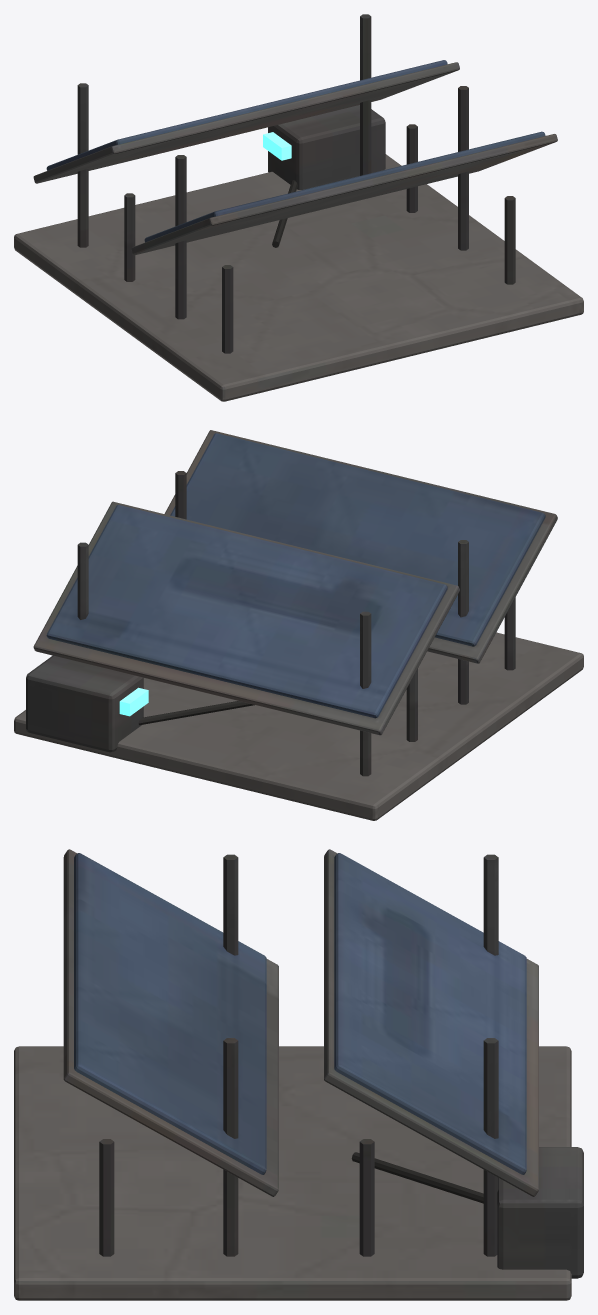
Rendered from home-solar.glb.
3 renders of one model, top to bottom at view 1: azimuth 30°, elevation 25°; view 2: azimuth 150°, elevation 25°; view 3: azimuth 270°, elevation 25°, orthographic. The views are drawn at different scales.
Visible parts, largest first — view 1: wh_solar, wh_solar_lights; view 2: wh_solar, wh_solar_lights; view 3: wh_solar.
Boxes of the visible parts, bbox=[...] form: wh_solar: bbox=[14, 14, 583, 401]; wh_solar_lights: bbox=[263, 132, 291, 160]; wh_solar: bbox=[14, 430, 583, 820]; wh_solar_lights: bbox=[119, 687, 148, 716]; wh_solar: bbox=[14, 849, 583, 1300].
Size of the model in its own units: 0.9 by 0.42 by 0.92.
2 materials, 1 textured.
